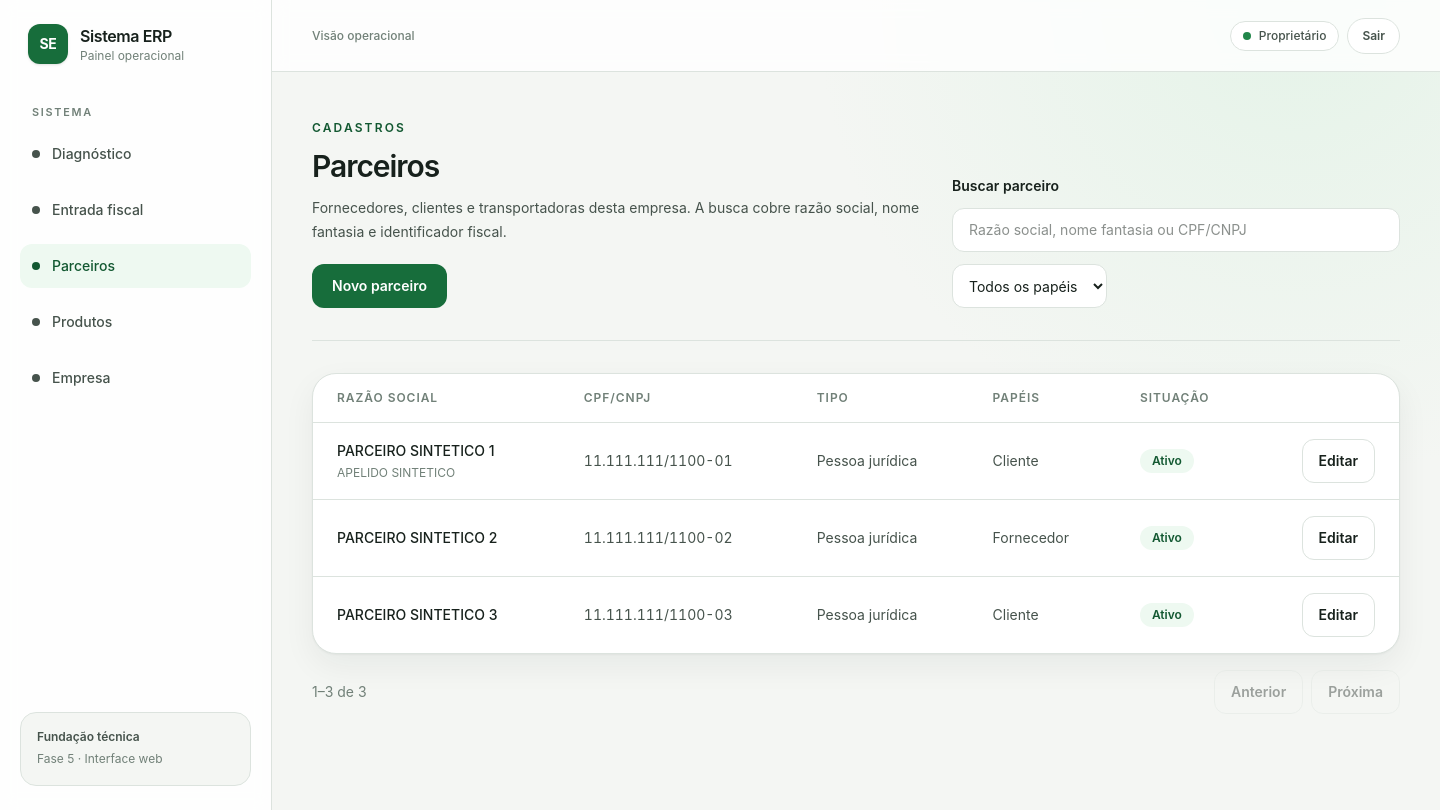
Test: listagens de cadastro › mostra estado vazio quando o filtro não encontra parceiros
Expected: the table is shown, [313,374,1399,653]
Type "INEXISTENTE" into the search field labelled "Buscar parceiro" at (1176, 230), box [952,208,1400,252]
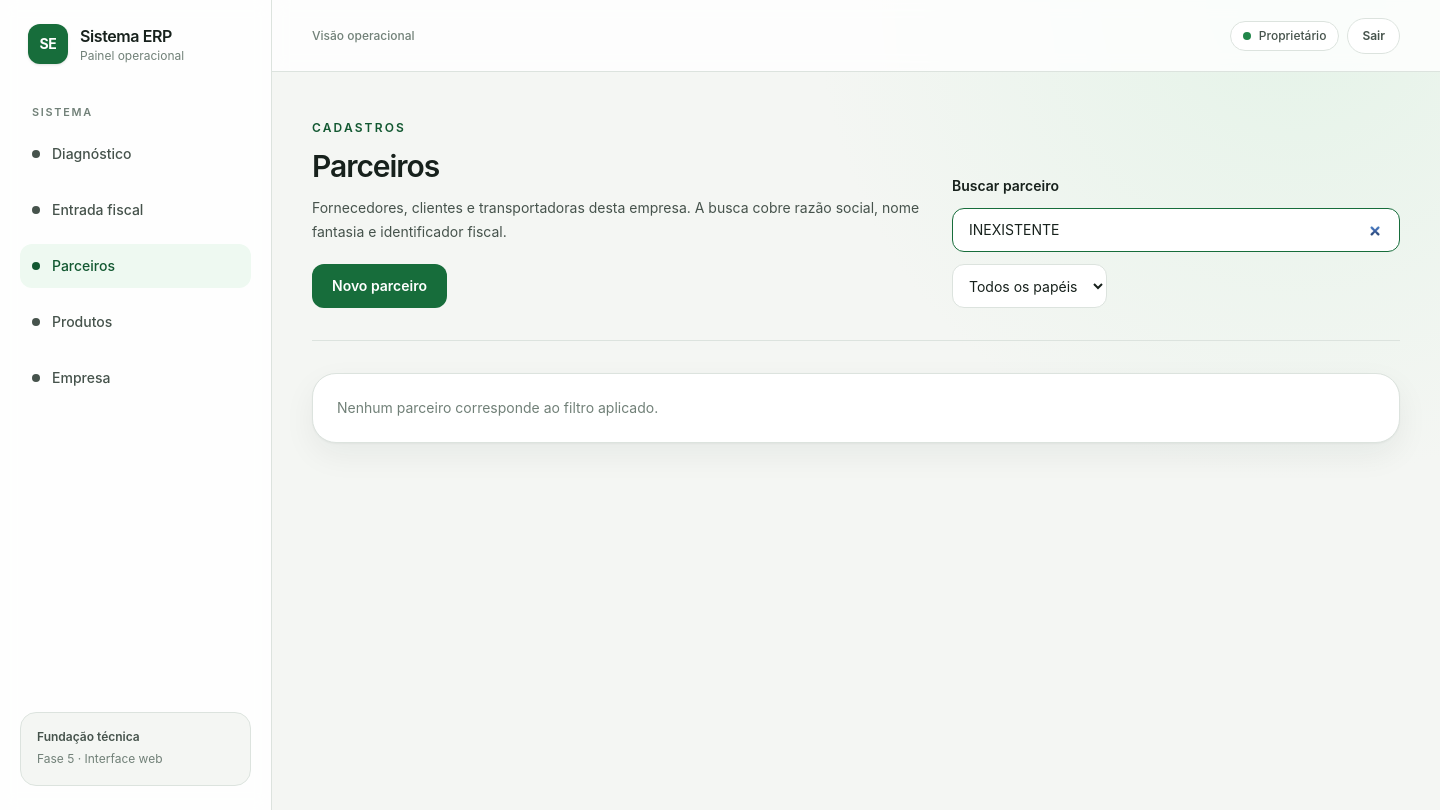
Now the text "Nenhum parceiro corresponde ao filtro aplicado." is shown, box [337,399,658,416]
